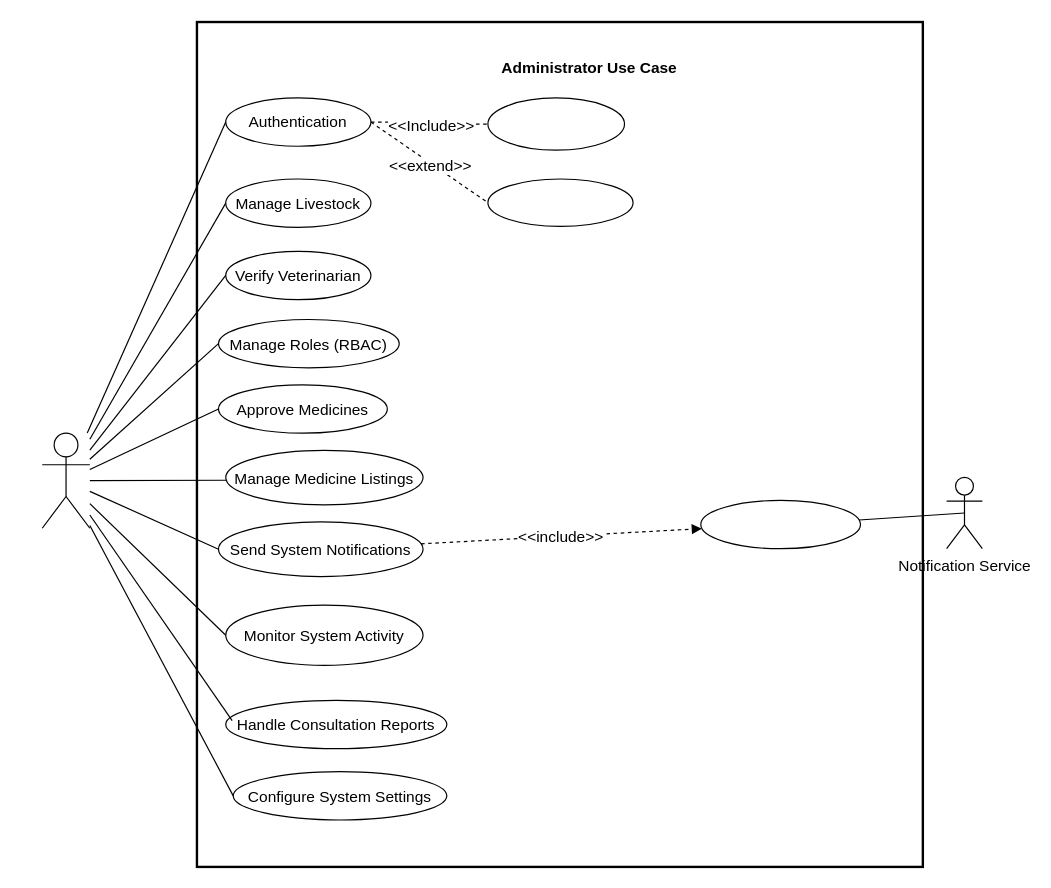
This 1051x888 diagram has some shape labels left out. Here are the shapes that lost their labels. From the top down, the centre of each, then its label:
the point at 556,123: Login
the point at 560,202: Register
the point at 65,480: Administrator
the point at 780,524: Send Push Notification
